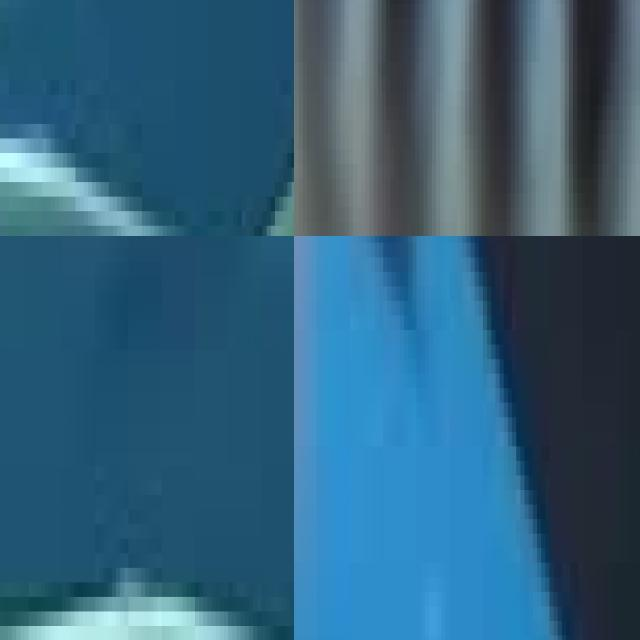fish: (294, 236, 640, 640), (0, 291, 294, 640), (0, 7, 294, 236)
